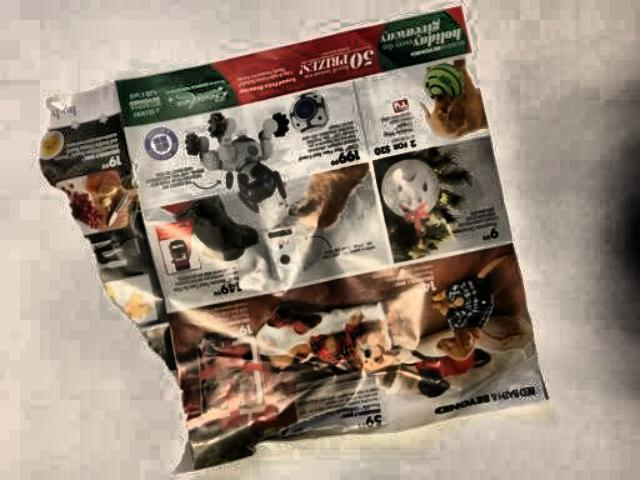Paper: (38, 5, 547, 472)
